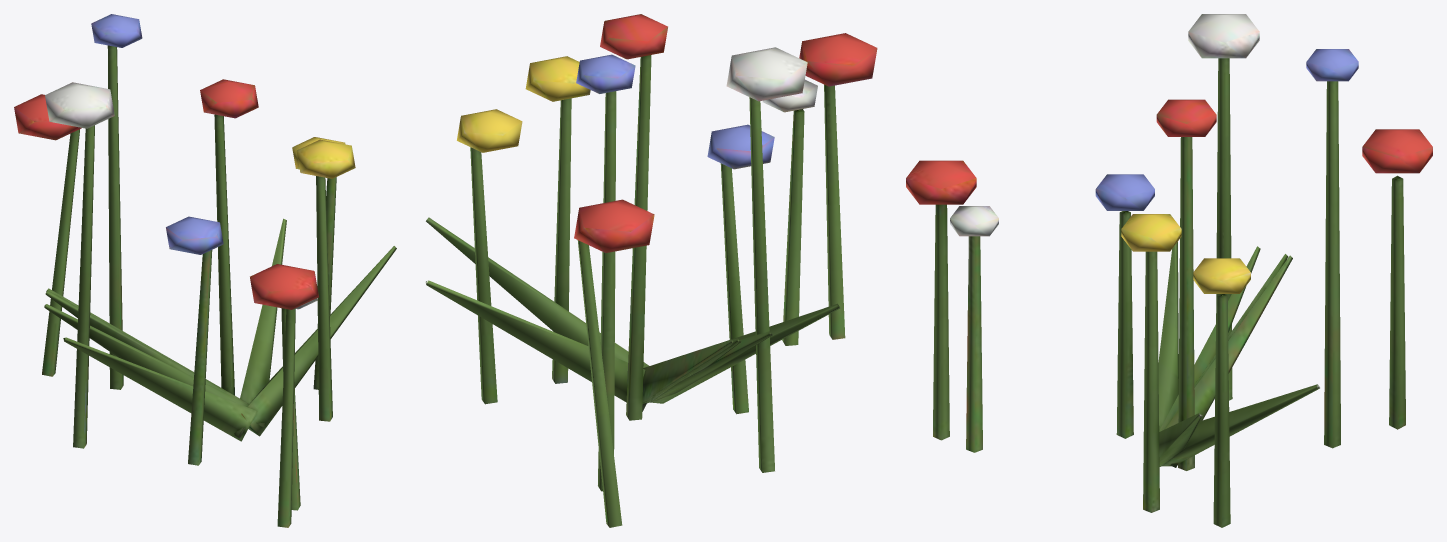
The model's file is flowers.glb.
3 renders of one model, left to right at view 1: azimuth 30°, elevation 25°; view 2: azimuth 150°, elevation 25°; view 3: azimuth 270°, elevation 25°, orthographic. The views are drawn at different scales.
Parts seen in each view (by area): view 1: flowers; view 2: flowers; view 3: flowers.
Boxes of the visible parts, x1,y1,x2,y2 form: flowers: (14,14,396,527); flowers: (425,14,877,527); flowers: (906,14,1432,527).
Bounding box in the file's own units: 0.5974 × 0.6148 × 0.7415.
Materials: 5 (5 with a texture image).
